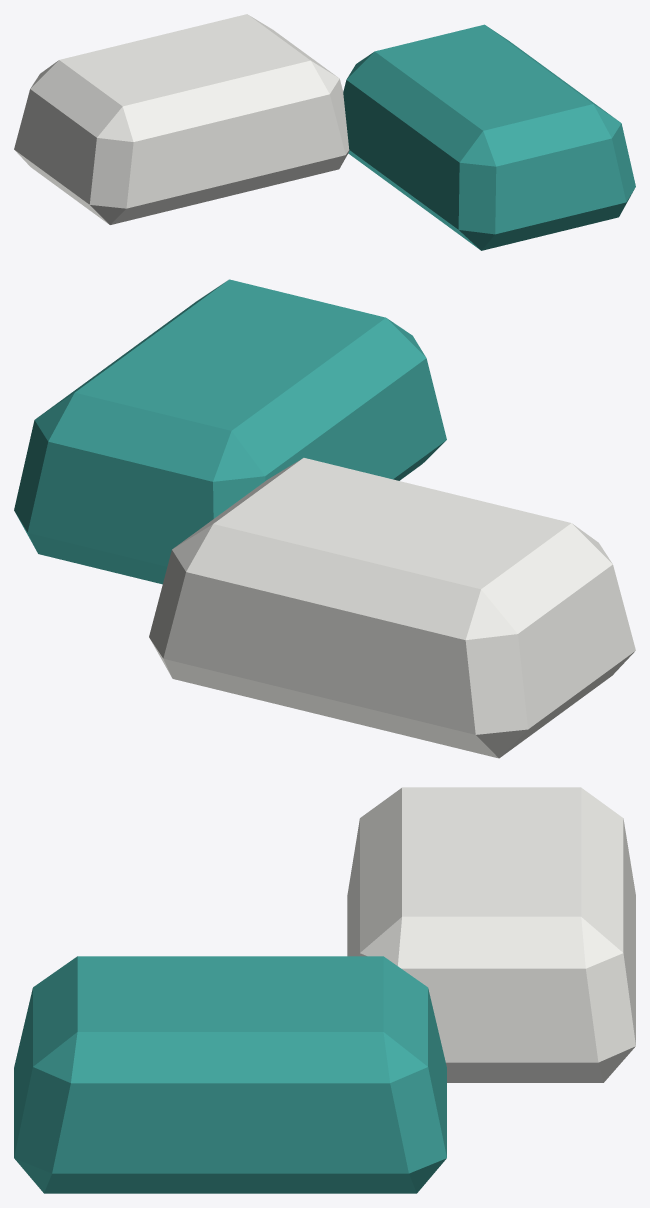
The model's file is prop_quickreply_p1.glb.
3 renders of one model, top to bottom at view 1: azimuth 30°, elevation 25°; view 2: azimuth 150°, elevation 25°; view 3: azimuth 270°, elevation 25°, orthographic. The views are drawn at different scales.
Parts seen in each view (by area): view 1: prop_quickreply_p1_mesh; view 2: prop_quickreply_p1_mesh; view 3: prop_quickreply_p1_mesh.
Part boxes in pixels (bbox=[...]): prop_quickreply_p1_mesh: bbox=[14, 14, 635, 250]; prop_quickreply_p1_mesh: bbox=[14, 279, 635, 758]; prop_quickreply_p1_mesh: bbox=[14, 787, 635, 1193].
Size of the model in its own units: 0.1867 by 0.045 by 0.1667.
